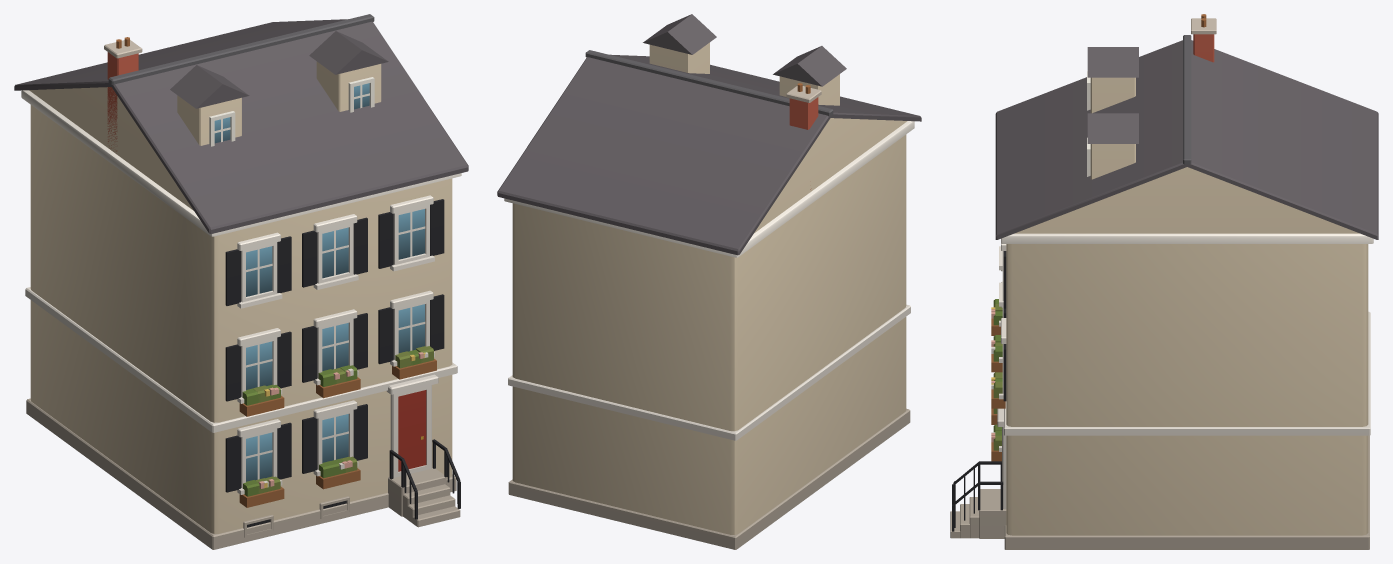
Rendered from lane_e2.glb.
The picture shows the model from 3 angles, left to right: view 1: azimuth 30°, elevation 25°; view 2: azimuth 150°, elevation 25°; view 3: azimuth 270°, elevation 25°; orthographic projection. The views are drawn at different scales.
Parts seen in each view (by area): view 1: lane_e2; view 2: lane_e2; view 3: lane_e2.
Boxes of the visible parts, box(x1,y1,x2,y2) form: lane_e2: box(14, 14, 468, 549); lane_e2: box(497, 14, 921, 549); lane_e2: box(950, 14, 1378, 549).
Bounding box in the file's own units: 9.8 × 15.45 × 14.21.
Materials: 1 (1 with a texture image).
